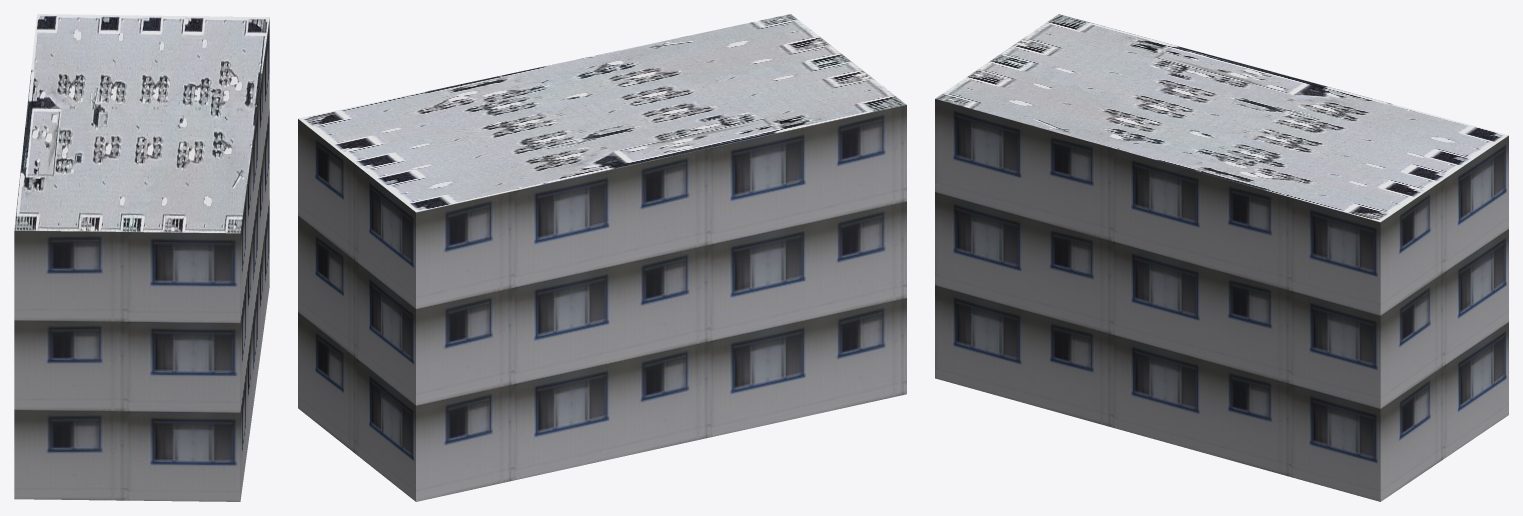
The model's file is ResTex__3284.fbx.
3 views of the same model, side by side, from view 1: azimuth 30°, elevation 25°; view 2: azimuth 150°, elevation 25°; view 3: azimuth 270°, elevation 25° (orthographic). The views are drawn at different scales.
Visible parts, largest first — view 1: CityEngineMaterial_9_m, CityEngineMaterial_4_m; view 2: CityEngineMaterial_9_m, CityEngineMaterial_4_m; view 3: CityEngineMaterial_9_m, CityEngineMaterial_4_m.
Boxes of the visible parts, left/top/right/bottom form: CityEngineMaterial_9_m: left=14, top=19, right=269, bottom=501; CityEngineMaterial_4_m: left=14, top=14, right=269, bottom=233; CityEngineMaterial_9_m: left=298, top=104, right=906, bottom=501; CityEngineMaterial_4_m: left=298, top=14, right=906, bottom=212; CityEngineMaterial_9_m: left=935, top=99, right=1508, bottom=501; CityEngineMaterial_4_m: left=935, top=14, right=1508, bottom=222.
Bounding box in the file's own units: 14.38 × 9 × 16.73.
2 materials, 2 textured.
